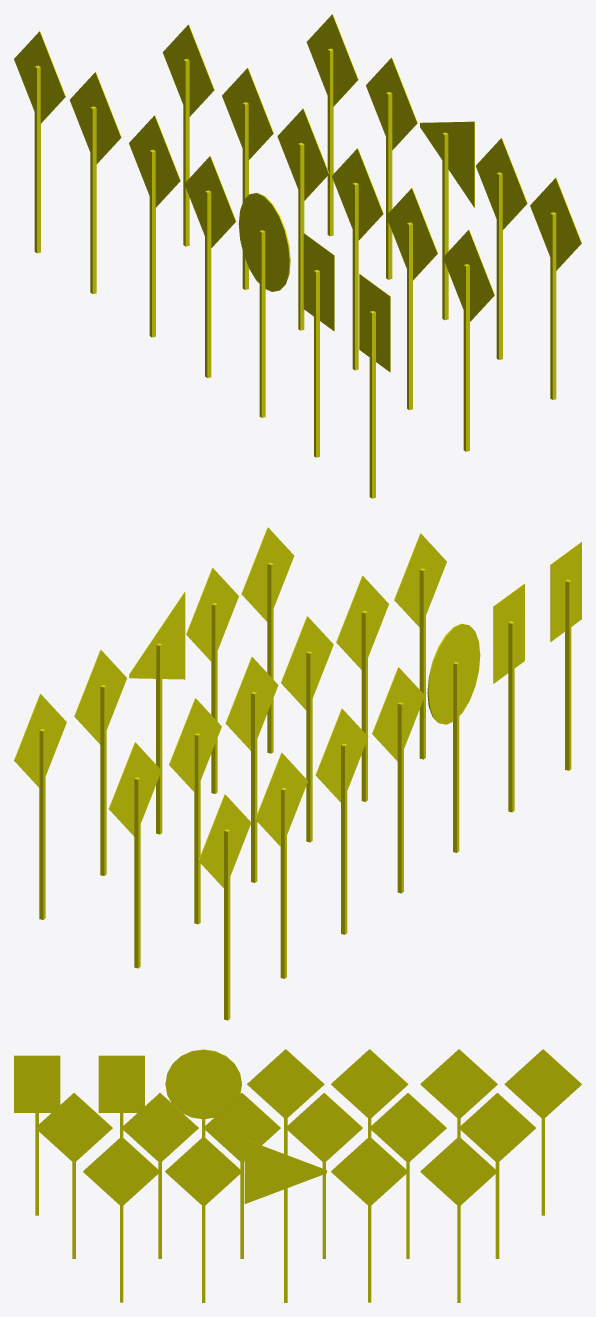
Rendered from Caution Signs 2.fbx.
The picture shows the model from 3 angles, top to bottom: view 1: azimuth 30°, elevation 25°; view 2: azimuth 150°, elevation 25°; view 3: azimuth 270°, elevation 25°; orthographic projection. The views are drawn at different scales.
Visible parts, largest first — view 1: pCylinder2, pCube115, pCube22, pCube30, pCube25, pCube20, pCube33, pCube28, pCube29, pCube24, pCube26, pCube27 (+24 smaller); view 2: pCylinder2, pCube115, pCube25, pCube23, pCube20, pCube28, pCube33, pCube24, pCube27, pCube34, pCube29, pCube1 (+24 smaller); view 3: pCylinder2, pCube115, pCube21, pCube1, pCube26, pCube34, pCube30, pCube24, pCube25, pCube27, pCube29, pCube28 (+19 smaller).
Boxes of the visible parts, x1,y1,x2,y2 form: pCylinder2: (238, 192, 290, 291); pCube115: (420, 121, 474, 207); pCube22: (14, 31, 65, 123); pCube30: (129, 115, 180, 207); pCube25: (530, 178, 581, 270); pCube20: (162, 24, 214, 116); pCube33: (332, 148, 383, 240); pCube28: (306, 14, 358, 106); pCube29: (70, 72, 121, 163); pCube24: (222, 68, 273, 159); pCube26: (277, 108, 329, 200); pCube27: (476, 138, 527, 229); pCylinder2: (427, 623, 480, 724); pCube115: (129, 592, 185, 679); pCube25: (241, 527, 294, 621); pCube23: (74, 650, 126, 744); pCube20: (108, 742, 161, 836); pCube28: (14, 694, 66, 787); pCube33: (281, 616, 333, 709); pCube24: (169, 698, 221, 791); pCube27: (186, 568, 238, 661); pCube34: (372, 667, 424, 760); pCube29: (255, 752, 307, 846); pCube1: (336, 576, 388, 669); pCylinder2: (165, 1049, 241, 1119); pCube115: (244, 1139, 326, 1203); pCube21: (35, 1093, 112, 1162); pCube1: (121, 1093, 198, 1162); pCube26: (285, 1093, 362, 1163); pCube34: (247, 1049, 324, 1119); pCube30: (331, 1049, 408, 1119); pCube24: (369, 1093, 446, 1162); pCube25: (83, 1136, 160, 1206); pCube27: (165, 1136, 242, 1206); pCube29: (420, 1049, 497, 1119); pCube28: (420, 1136, 497, 1206).
Bounding box in the file's own units: 20.37 × 17.77 × 54.98.
